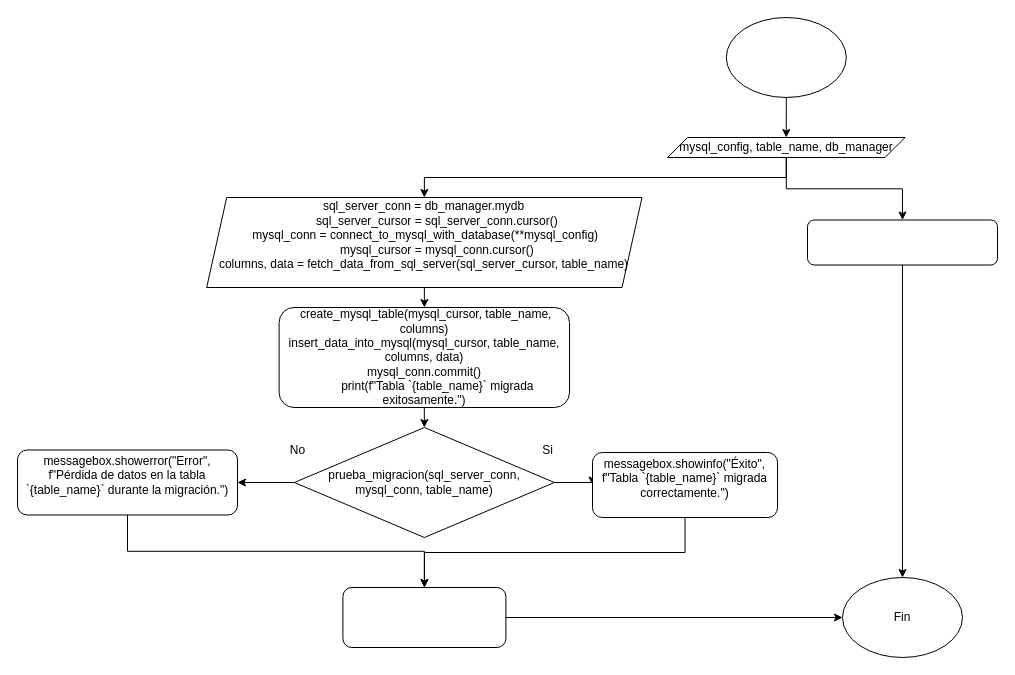
Image size: 1015x675. Some labels were removed from this diagram. The centre of each missing label's shape, as x and y in pixels:
Inicio: pixel 785 57
messagebox.showerror("Error", f"Error durante la migración: {e}"): pixel 902 242
sql_server_cursor.close() mysql_cursor.close() mysql_conn.close(): pixel 424 617
